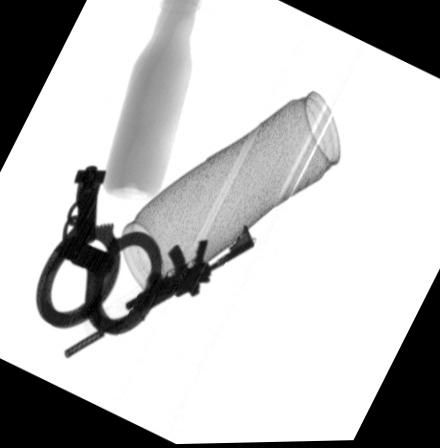Gun: (60, 222, 255, 367)
HandCuffs: (31, 168, 165, 340)
